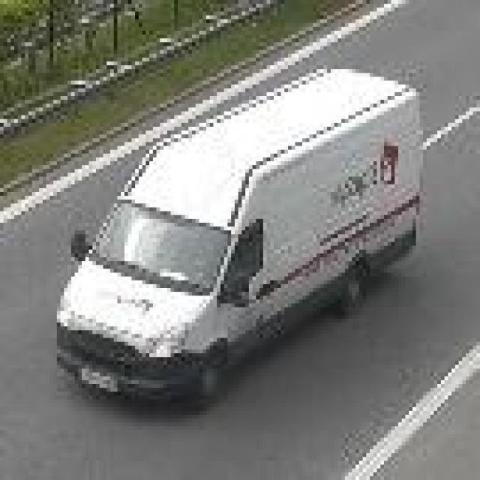van: (53, 65, 423, 411)
